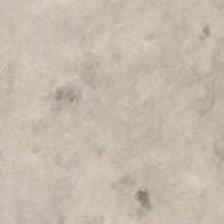Non_Crack: (13, 42, 208, 215)
